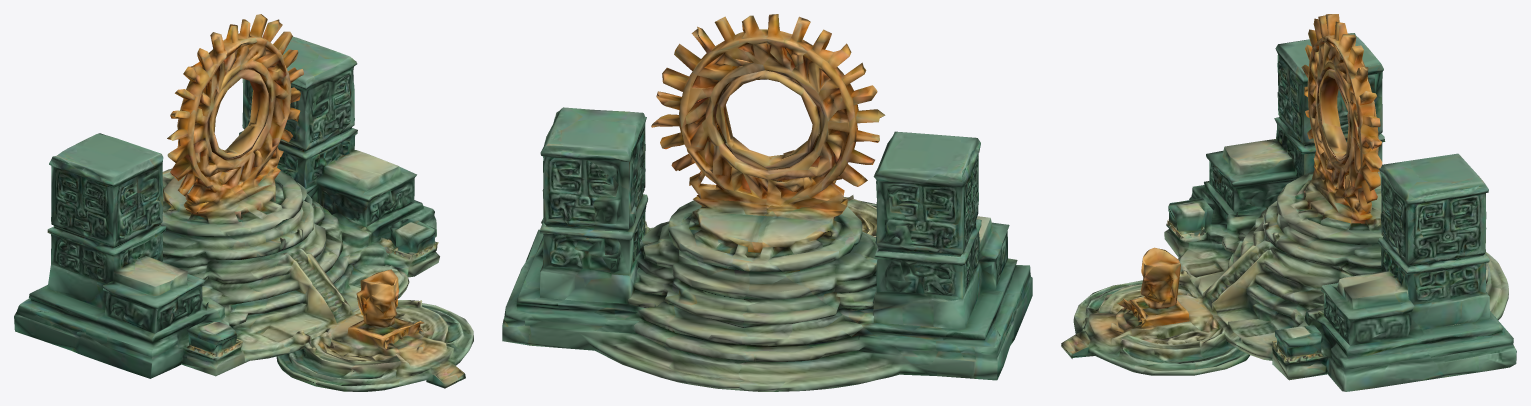
Rendered from 09-ritual.glb.
3 renders of one model, left to right at view 1: azimuth 30°, elevation 25°; view 2: azimuth 150°, elevation 25°; view 3: azimuth 270°, elevation 25°, orthographic. The views are drawn at different scales.
Parts seen in each view (by area): view 1: tripo_node_5a032368-2e82-4a50-9e47-821fe3712931; view 2: tripo_node_5a032368-2e82-4a50-9e47-821fe3712931; view 3: tripo_node_5a032368-2e82-4a50-9e47-821fe3712931.
Boxes of the visible parts, box(x1,y1,x2,y2) form: tripo_node_5a032368-2e82-4a50-9e47-821fe3712931: box(14, 14, 473, 391); tripo_node_5a032368-2e82-4a50-9e47-821fe3712931: box(502, 14, 1032, 391); tripo_node_5a032368-2e82-4a50-9e47-821fe3712931: box(1061, 14, 1516, 391).
Size of the model in its own units: 1.41 by 0.9141 by 1.32.
1 material, 1 textured.
